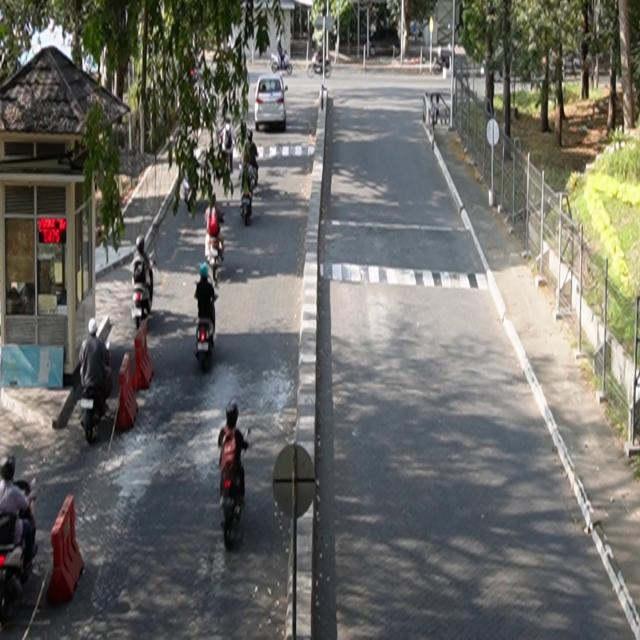car: (255, 76, 289, 133)
